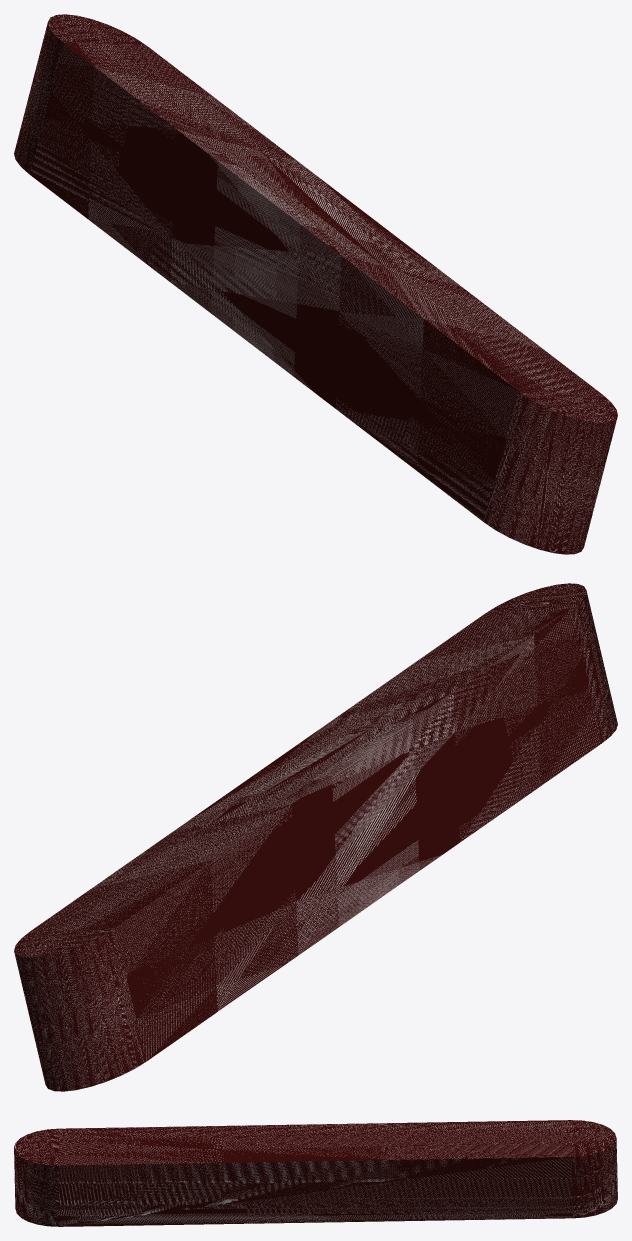
File: original-42.obj
3 renders of one model, top to bottom at view 1: azimuth 30°, elevation 25°; view 2: azimuth 150°, elevation 25°; view 3: azimuth 270°, elevation 25°, orthographic. The views are drawn at different scales.
Parts seen in each view (by area): view 1: mesh120/mesh120-geometry#mesh120-geometry; view 2: mesh120/mesh120-geometry#mesh120-geometry; view 3: mesh120/mesh120-geometry#mesh120-geometry.
Part boxes in pixels (x1,y1,x2,y2): mesh120/mesh120-geometry#mesh120-geometry: (14, 14, 617, 554); mesh120/mesh120-geometry#mesh120-geometry: (14, 583, 617, 1091); mesh120/mesh120-geometry#mesh120-geometry: (14, 1120, 617, 1226).
Bounding box in the file's own units: 0.029 × 0.0387 × 0.2291.
